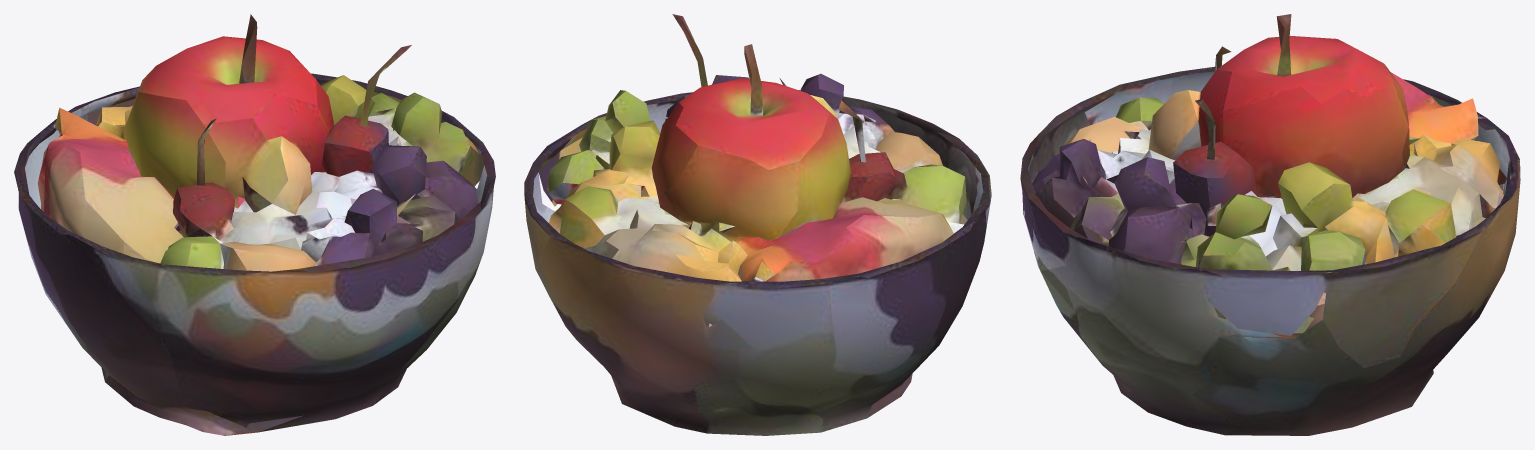
Rendered from fruit_salad.glb.
The picture shows the model from 3 angles, left to right: view 1: azimuth 30°, elevation 25°; view 2: azimuth 150°, elevation 25°; view 3: azimuth 270°, elevation 25°; orthographic projection. The views are drawn at different scales.
Visible parts, largest first — view 1: fruit_salad; view 2: fruit_salad; view 3: fruit_salad.
Boxes of the visible parts, x1,y1,x2,y2 form: fruit_salad: (14,14,495,435); fruit_salad: (524,14,991,435); fruit_salad: (1020,14,1520,435).
Size of the model in its own units: 1 by 0.7895 by 0.9987.
1 material, 1 textured.
